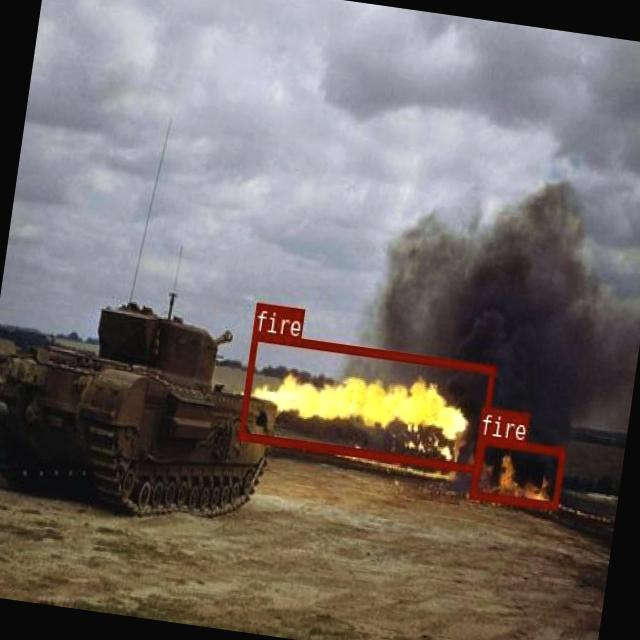fire: (237, 332, 495, 472), (469, 434, 566, 510)
